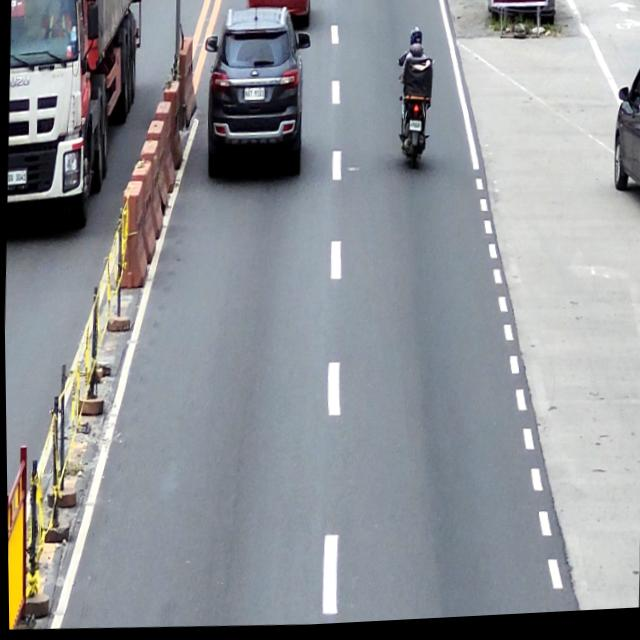Car: (201, 4, 312, 185), (608, 61, 640, 228), (244, 0, 309, 30)
License-Plate: (7, 168, 26, 184), (243, 89, 264, 103), (408, 124, 420, 136)
Motorcycle: (392, 59, 436, 176)
Truck: (2, 0, 145, 240)
